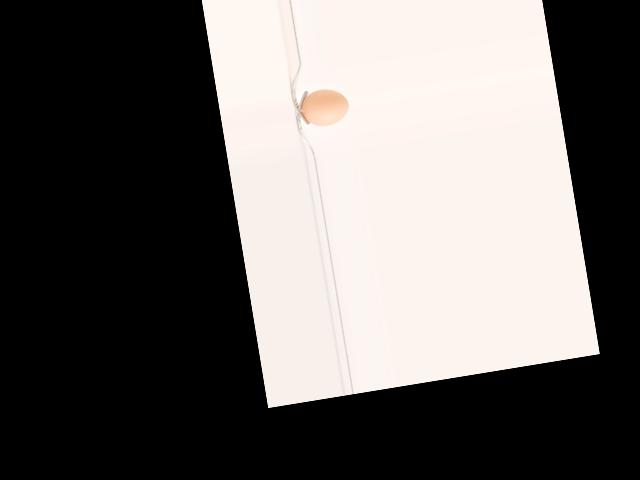egg: (299, 86, 351, 129)
